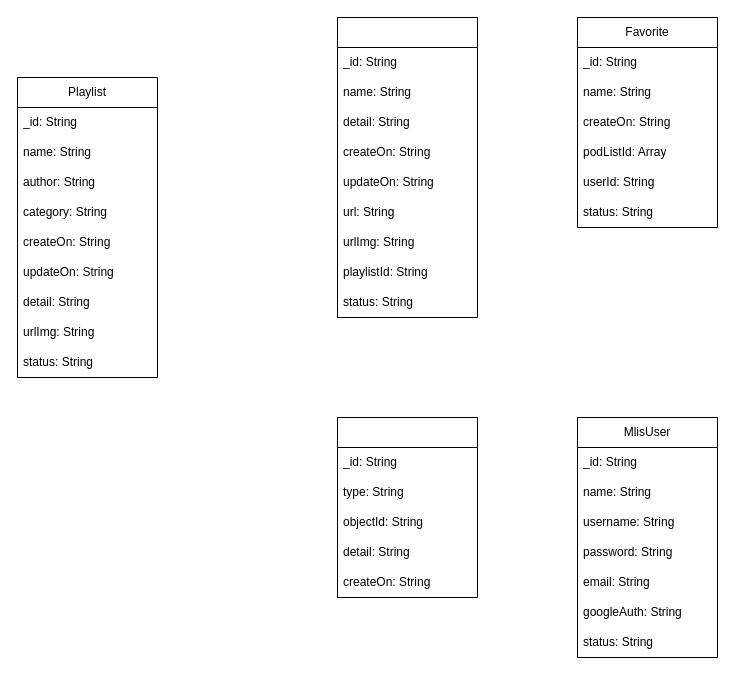
Image size: 735x675. Some labels were removed from this diagram. The shapes that lost their labels are listed below. From the top down, each one's box as (x1, y1, x2, y2) in pixels, then its label:
(336, 16, 478, 318): Podcast
(336, 416, 478, 598): LogPod
